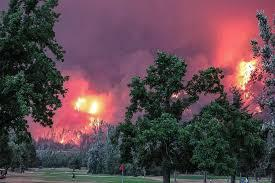fire: (28, 77, 114, 142), (229, 57, 260, 116)
yanwu: (52, 1, 239, 107)
